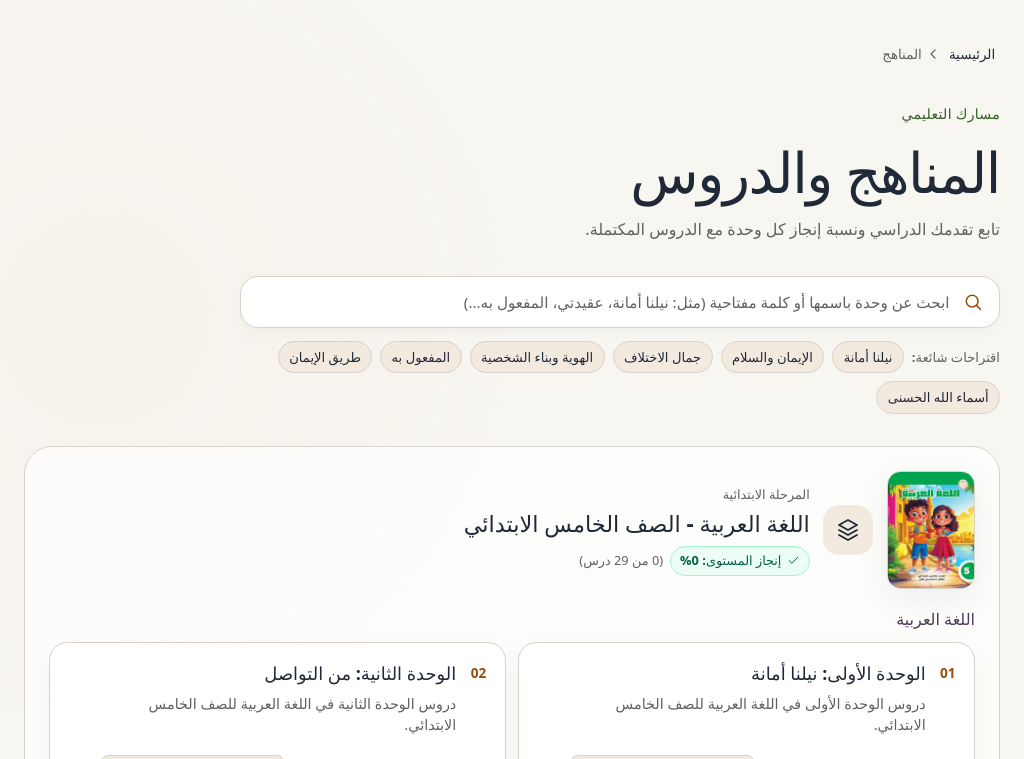
Test case: واجهة شريط البحث في صفحة المناهج (CurriculumPage Search Bar UI) › يُفعّل البحث عند النقر على إحدى الكلمات المفتاحية المقترحة
Click the button "جمال الاختلاف": {"x": 662, "y": 357} [612, 341, 712, 374]
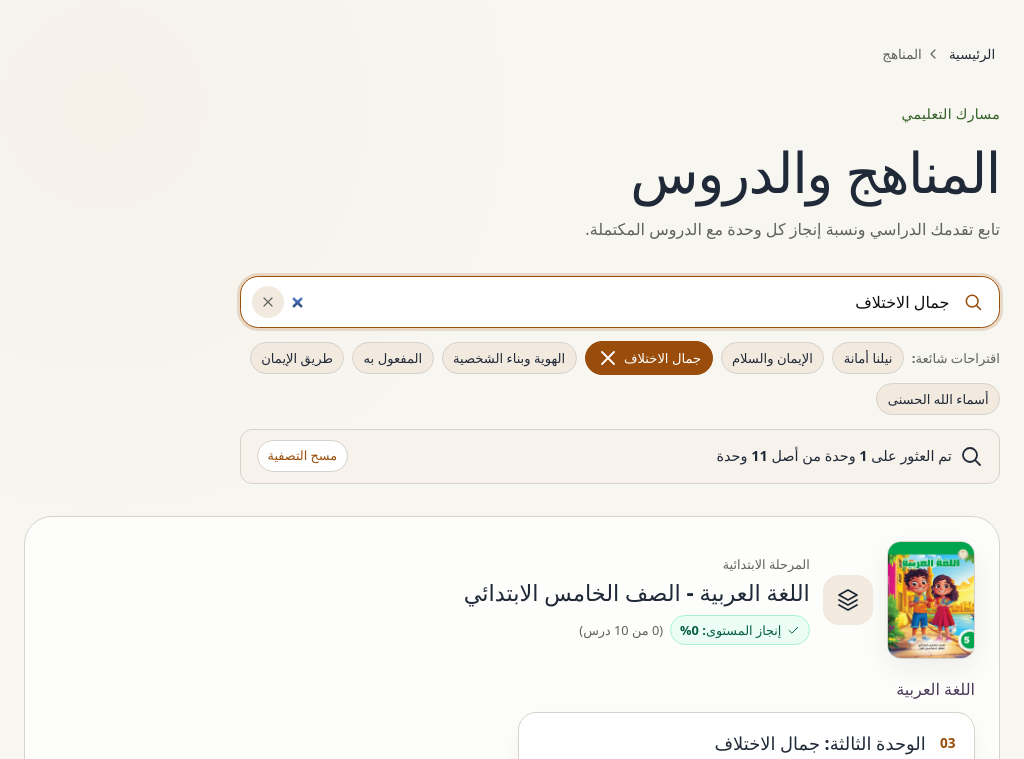
Expected: the heading "الوحدة الثالثة: جمال الاختلاف" is shown, [714, 731, 926, 755]
Expected: the search field named "ابحث عن وحدة" holds "جمال الاختلاف", [240, 276, 1000, 328]
